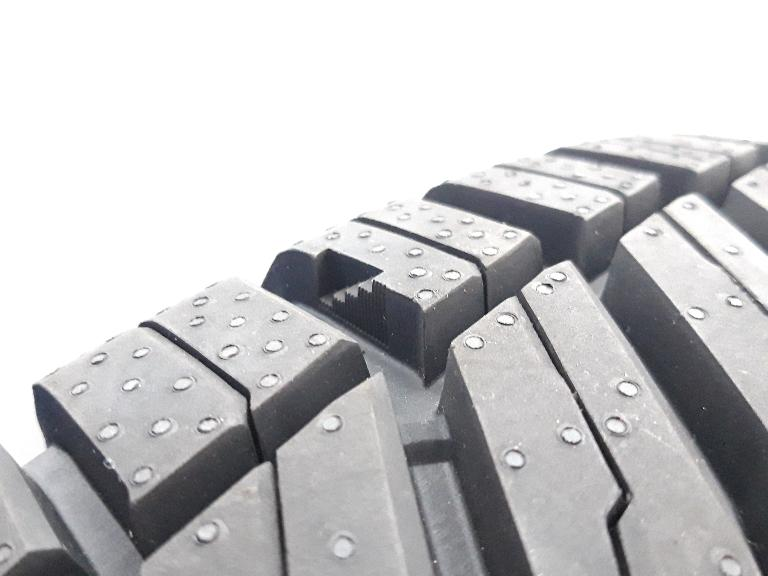temoin:100: (313, 247, 394, 353)
